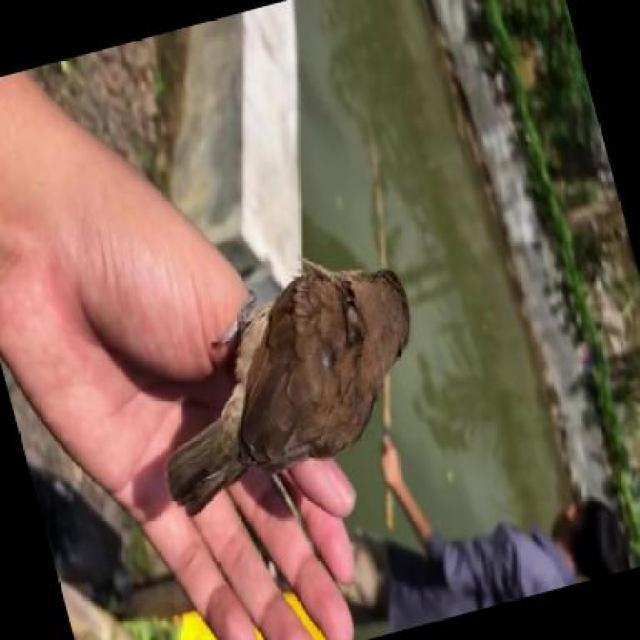Bird: (118, 216, 488, 496)
